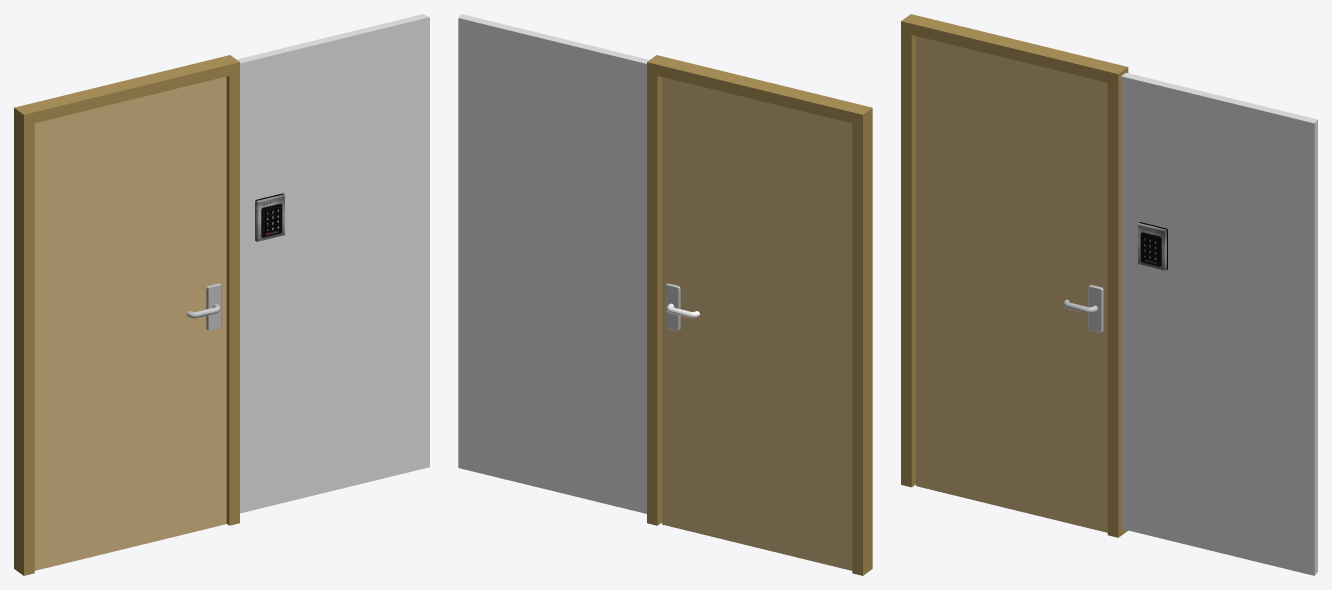
Rendered from security_keypad.glb.
3 renders of one model, left to right at view 1: azimuth 30°, elevation 25°; view 2: azimuth 150°, elevation 25°; view 3: azimuth 330°, elevation 25°, orthographic.
Parts seen in each view (by area): view 1: Door_20, Wall_segment_25, Door_Frame_24, Security_Keypad_17, Handle_Plate_21; view 2: Wall_segment_25, Door_20, Door_Frame_24, Handle_Plate_21; view 3: Wall_segment_25, Door_20, Door_Frame_24, Security_Keypad_17, Handle_Plate_21.
Boxes of the visible parts, x1,y1,x2,y2 form: Door_20: [34, 76, 226, 570]; Wall_segment_25: [237, 14, 429, 513]; Door_Frame_24: [14, 55, 239, 575]; Security_Keypad_17: [255, 193, 284, 241]; Handle_Plate_21: [206, 283, 221, 331]; Wall_segment_25: [458, 14, 649, 513]; Door_20: [662, 77, 852, 570]; Door_Frame_24: [647, 55, 872, 575]; Handle_Plate_21: [665, 283, 680, 330]; Wall_segment_25: [1121, 72, 1317, 575]; Door_20: [916, 36, 1107, 532]; Door_Frame_24: [901, 14, 1128, 537]; Security_Keypad_17: [1138, 222, 1167, 270]; Handle_Plate_21: [1088, 285, 1103, 332].
Size of what is drawn, in the model's own units: 1.93 by 2.08 by 0.1552.
Materials: 9 (1 with a texture image).
